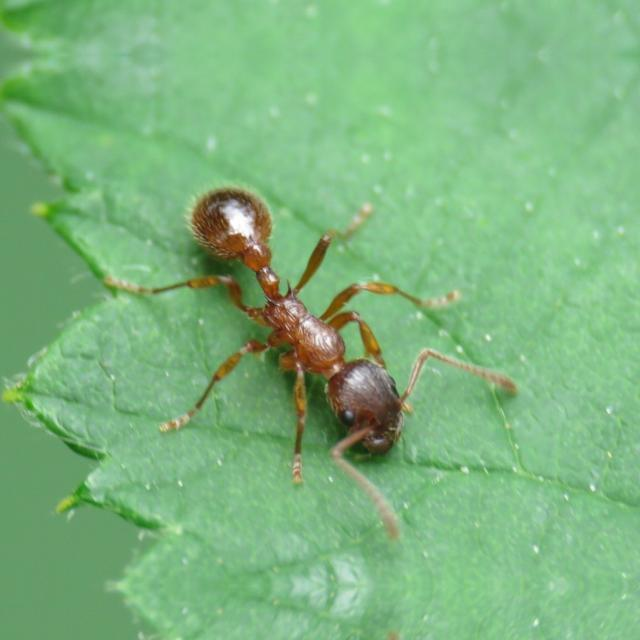Myrmica: (175, 148, 485, 504)
